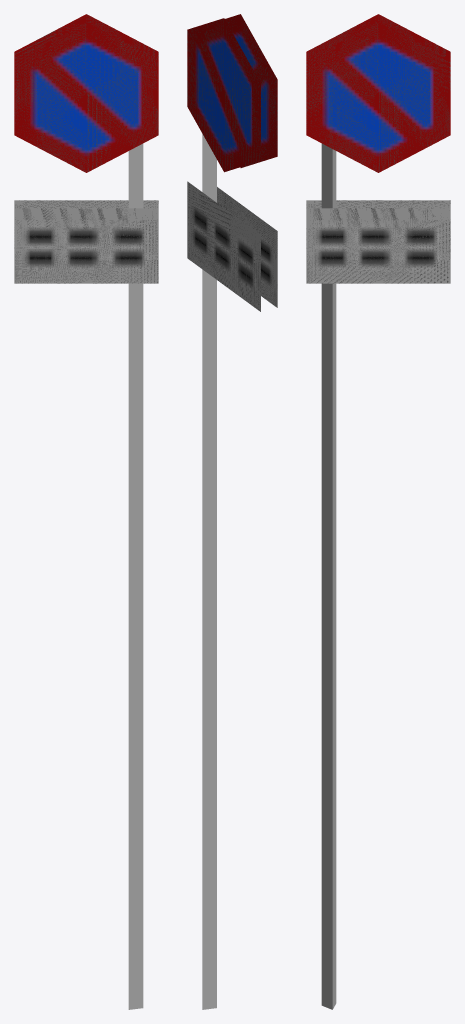
The model's file is Prop_Sign_B.fbx.
The picture shows the model from 3 angles, left to right: view 1: azimuth 90°, elevation 25°; view 2: azimuth 210°, elevation 25°; view 3: azimuth 270°, elevation 25°; orthographic projection. The views are drawn at different scales.
Parts seen in each view (by area): view 1: Prop_Sign_B; view 2: Prop_Sign_B; view 3: Prop_Sign_B.
Boxes of the visible parts, x1,y1,x2,y2 form: Prop_Sign_B: (14, 14, 158, 1009); Prop_Sign_B: (187, 14, 277, 1009); Prop_Sign_B: (306, 14, 450, 1009).
Bounding box in the file's own units: 6 × 348 × 46.1.
